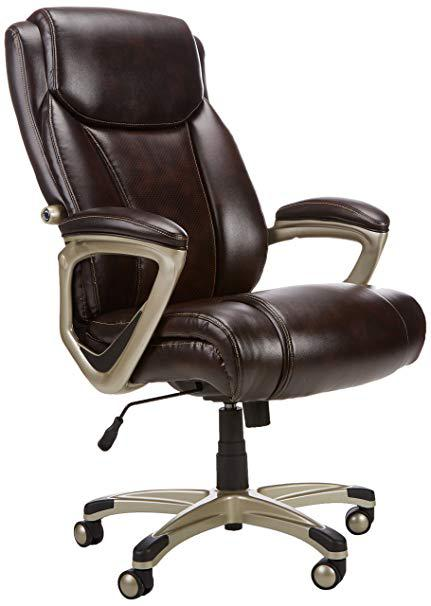chair: (8, 5, 431, 606)
